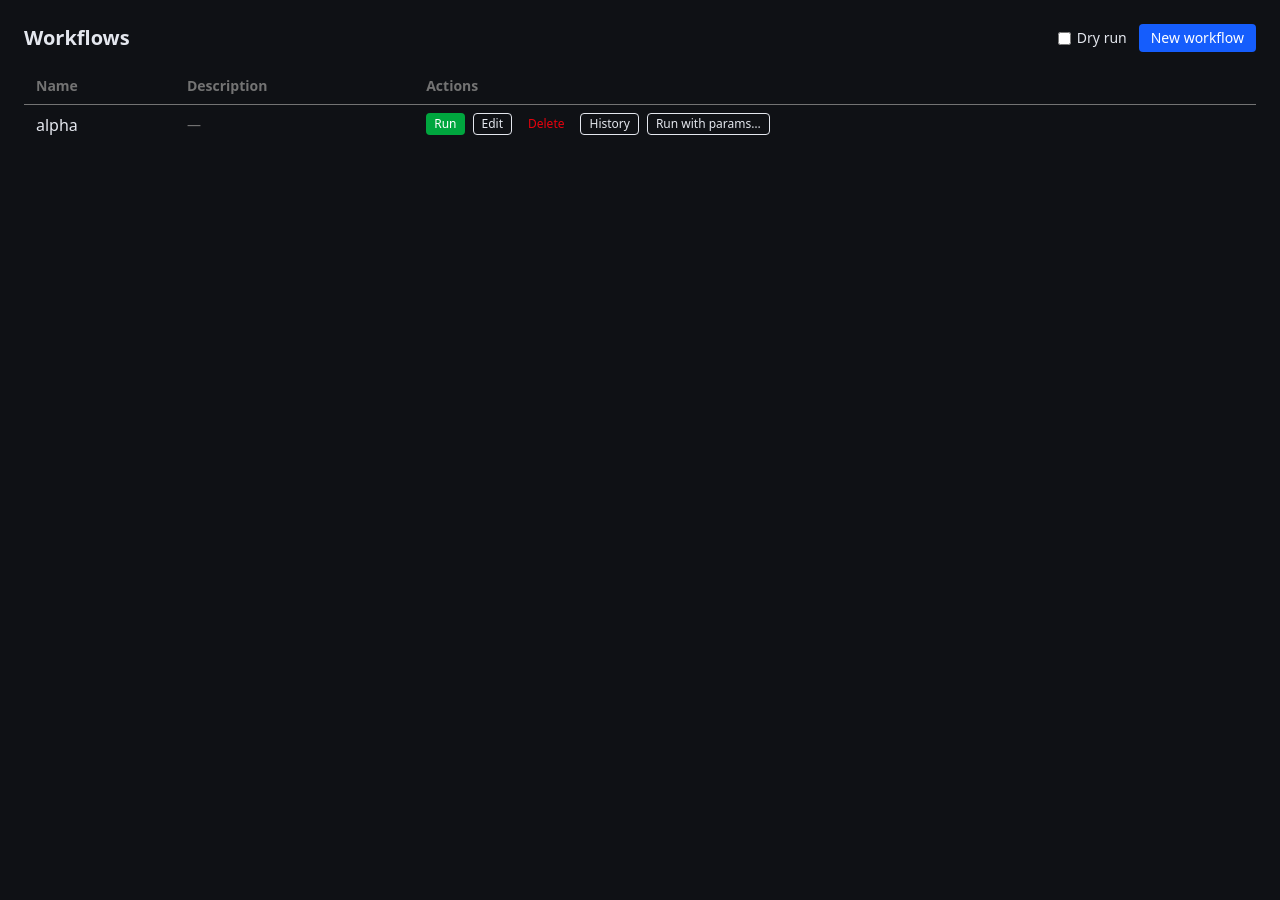
Workflows page — run with params dialog › Run with params... rejects invalid JSON with an inline error
This screenshot has width=1280, height=900.
Check: the text "alpha" is shown, box [24,104,175,145]
Click the button with aria-label "run with params for alpha" at (708, 124), box [647,113,770,135]
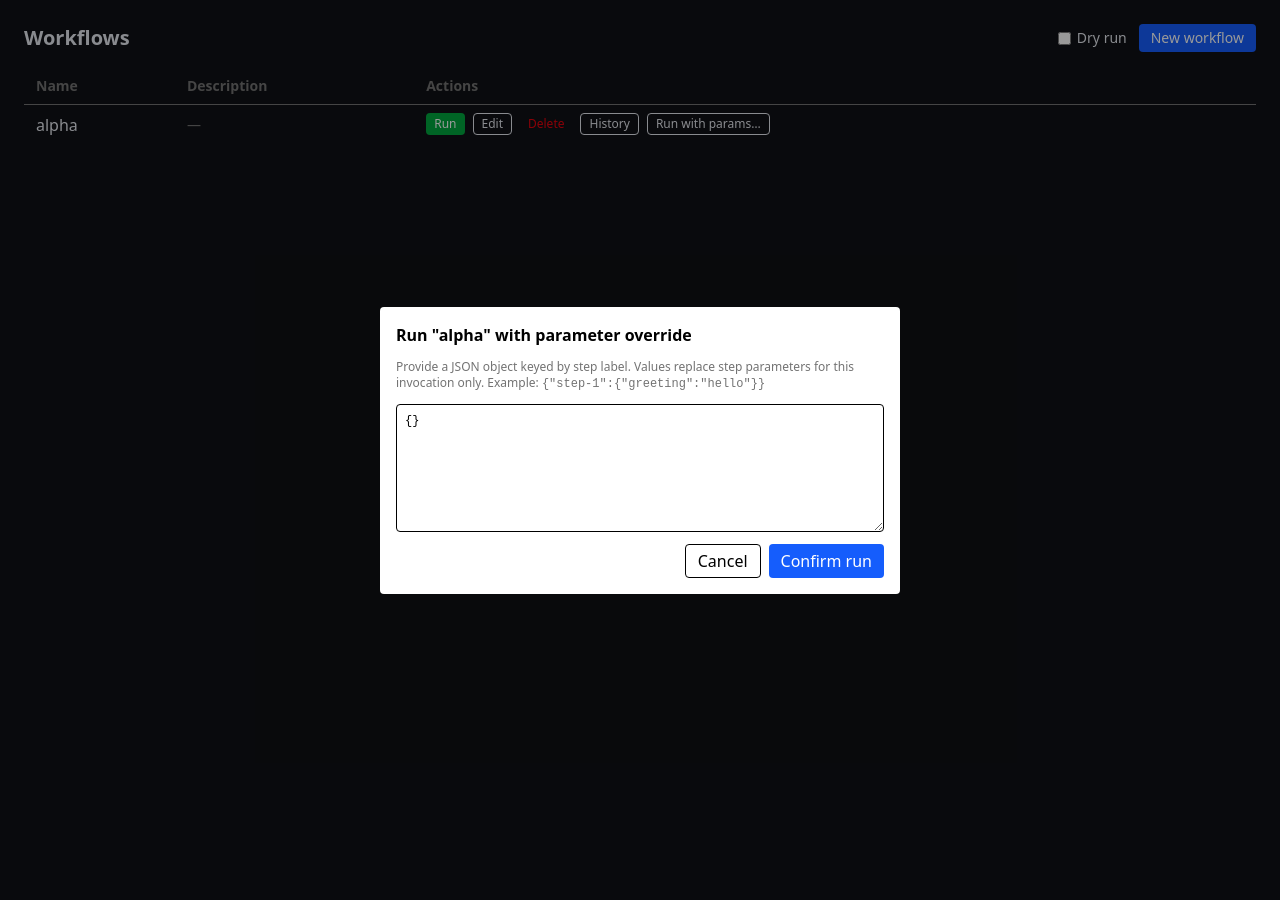
Replace the text in the text box named "params override json" with "not json" at (640, 468), box [396,404,884,532]
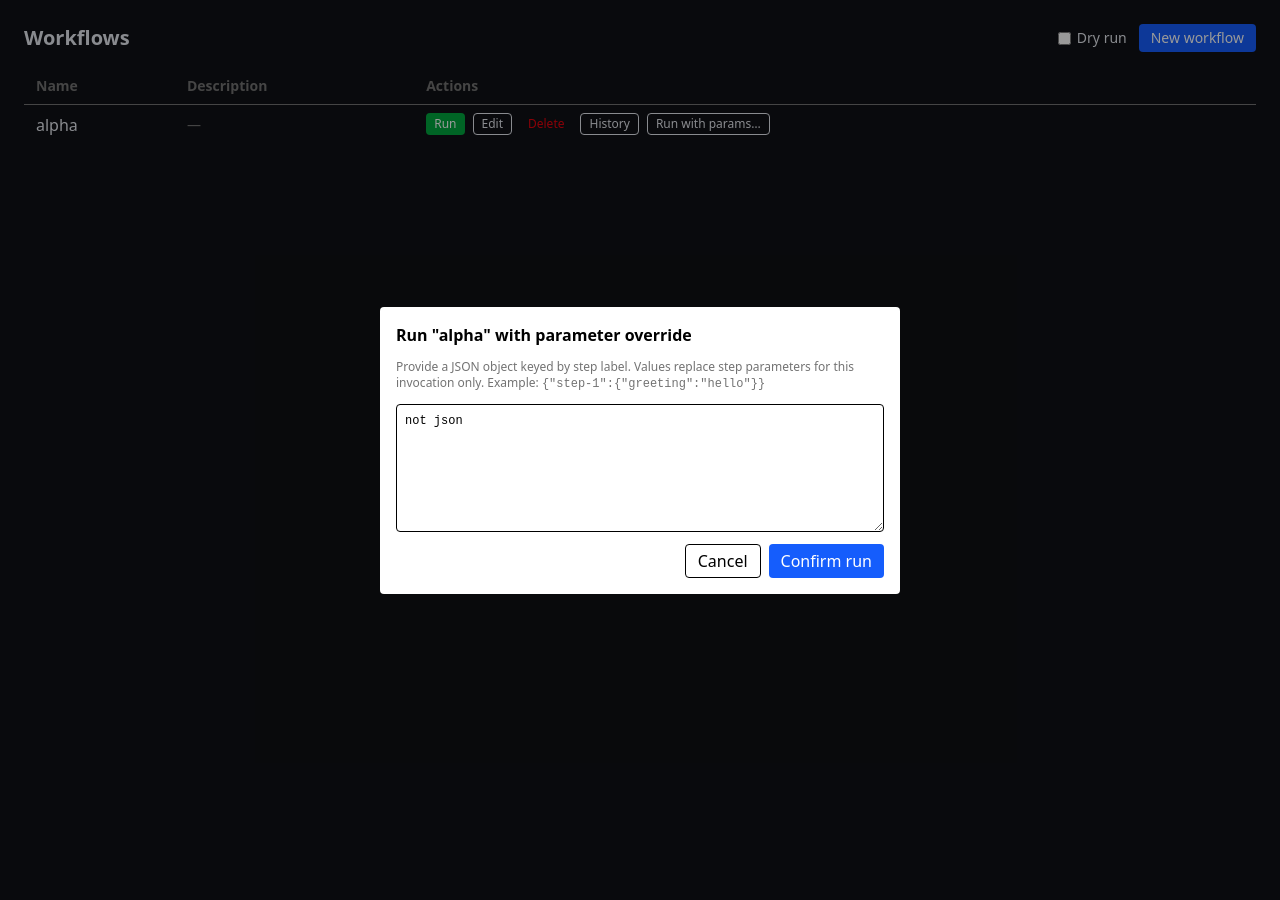
Click the button "Confirm run" at (826, 560), box [769,544,884,578]
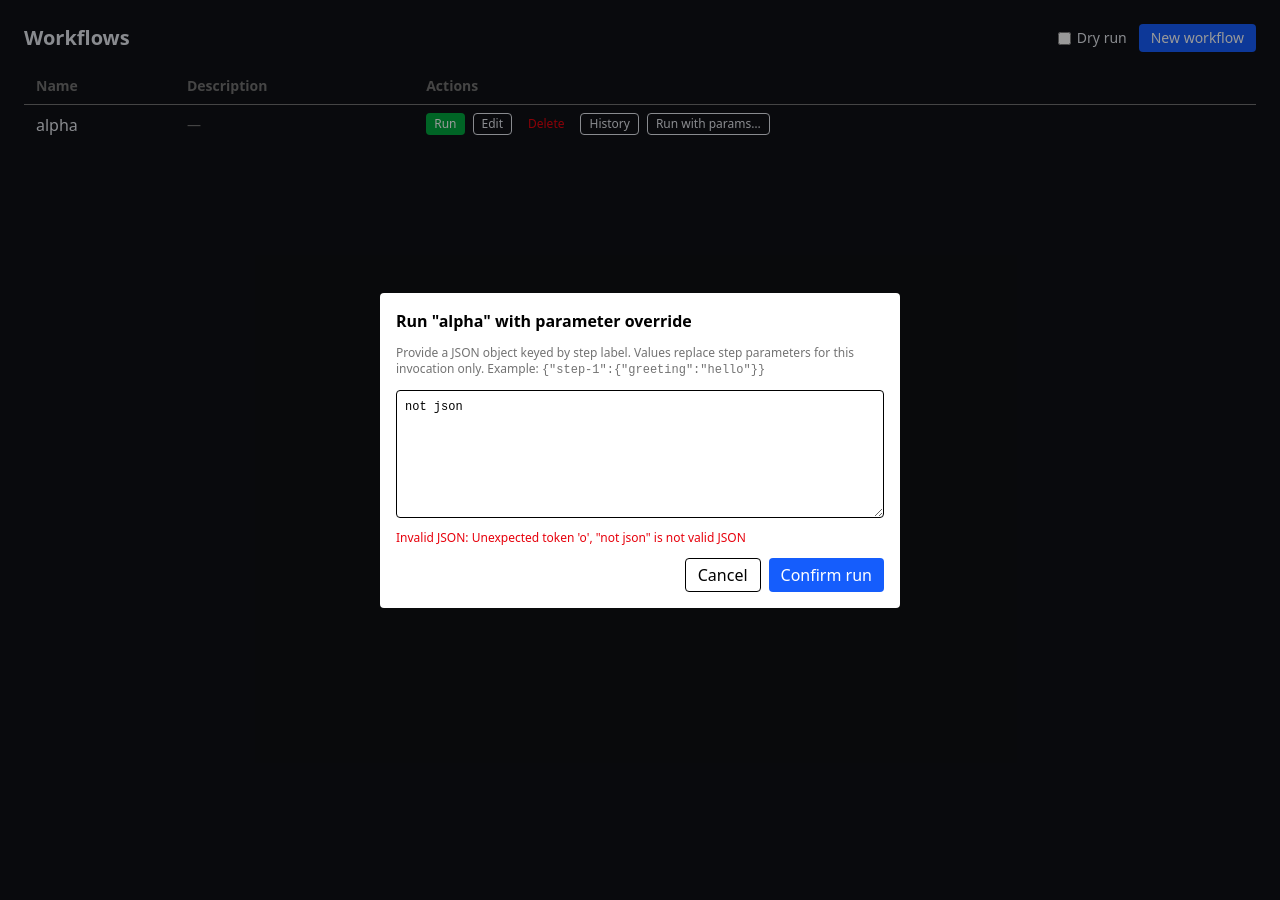
Check: the text "Invalid JSON" is shown, box [396,528,746,546]
